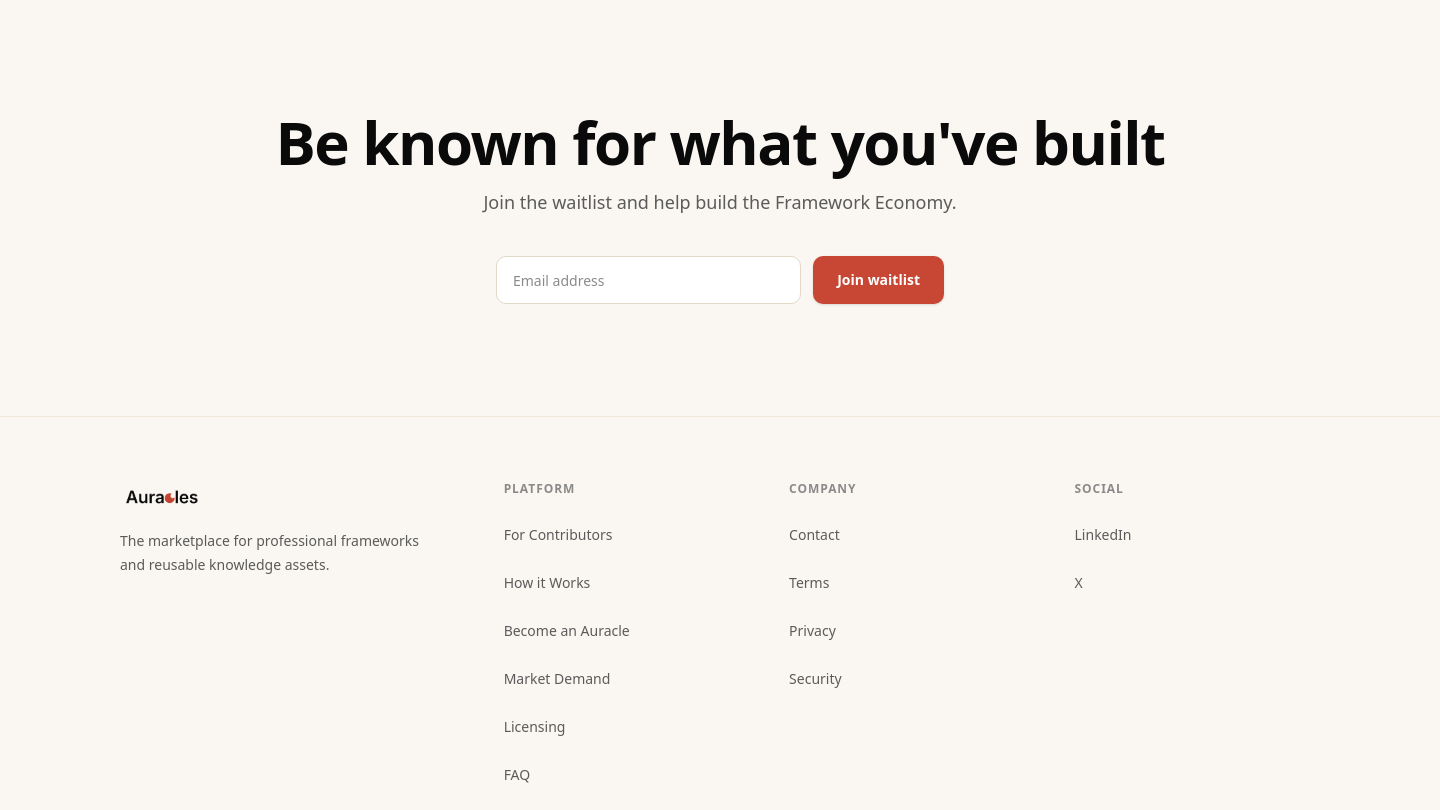
Test: FooterCta waitlist form › posts the email to the app's own /api/waitlist route
This screenshot has width=1440, height=810.
Type "ada@example.com" into the field labelled "Email address" at (649, 280), box [496,256,801,304]
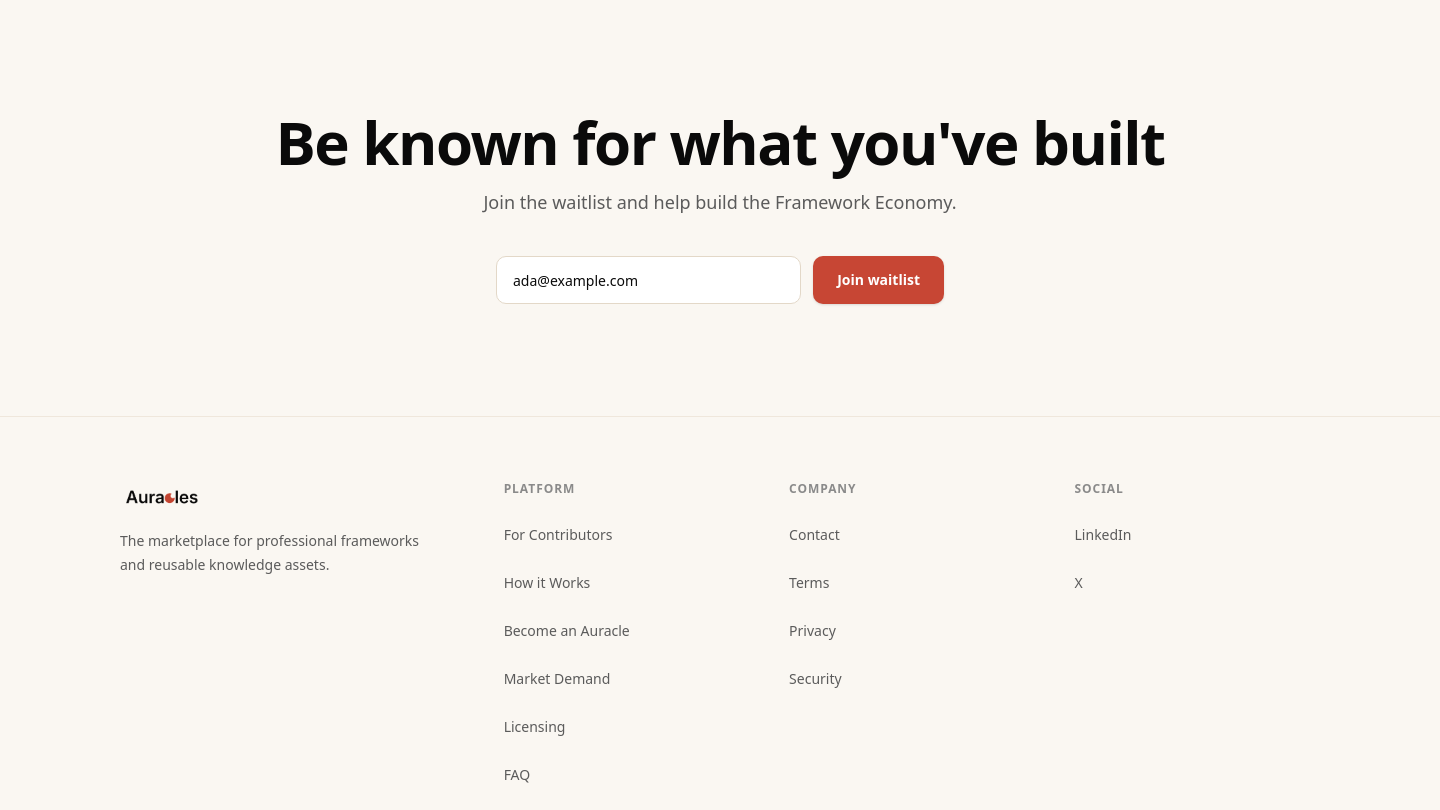
Click the button "Join waitlist" at (879, 280), box [813,256,944,304]
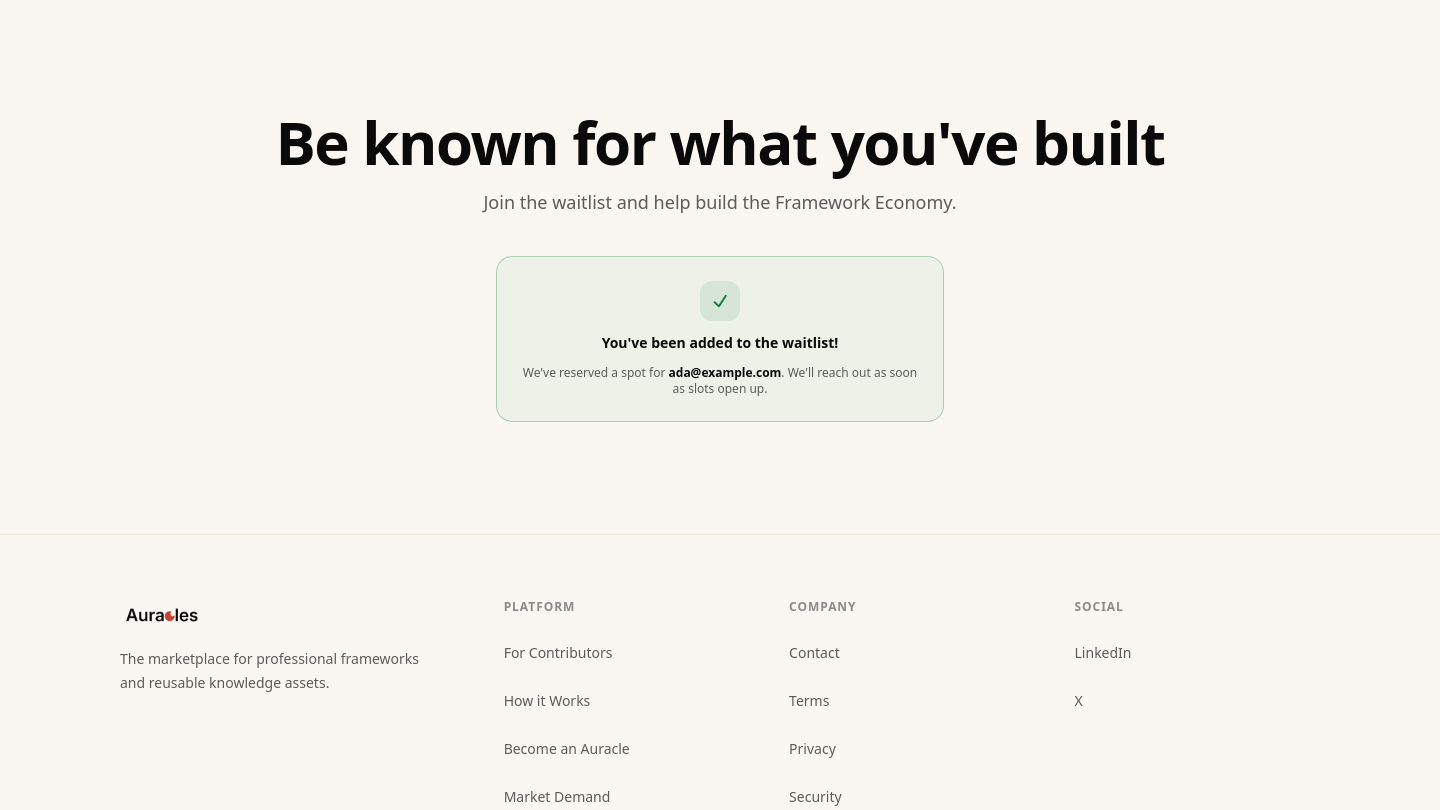
Expected: the text "You've been added to the waitlist!" is shown, [602,333,838,353]
Expected: the text "ada@example.com" is shown, [668,364,781,381]
